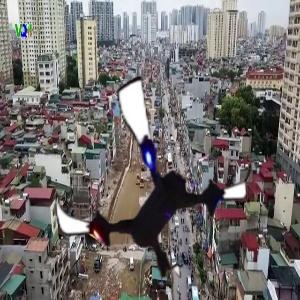drone: (44, 77, 258, 291)
